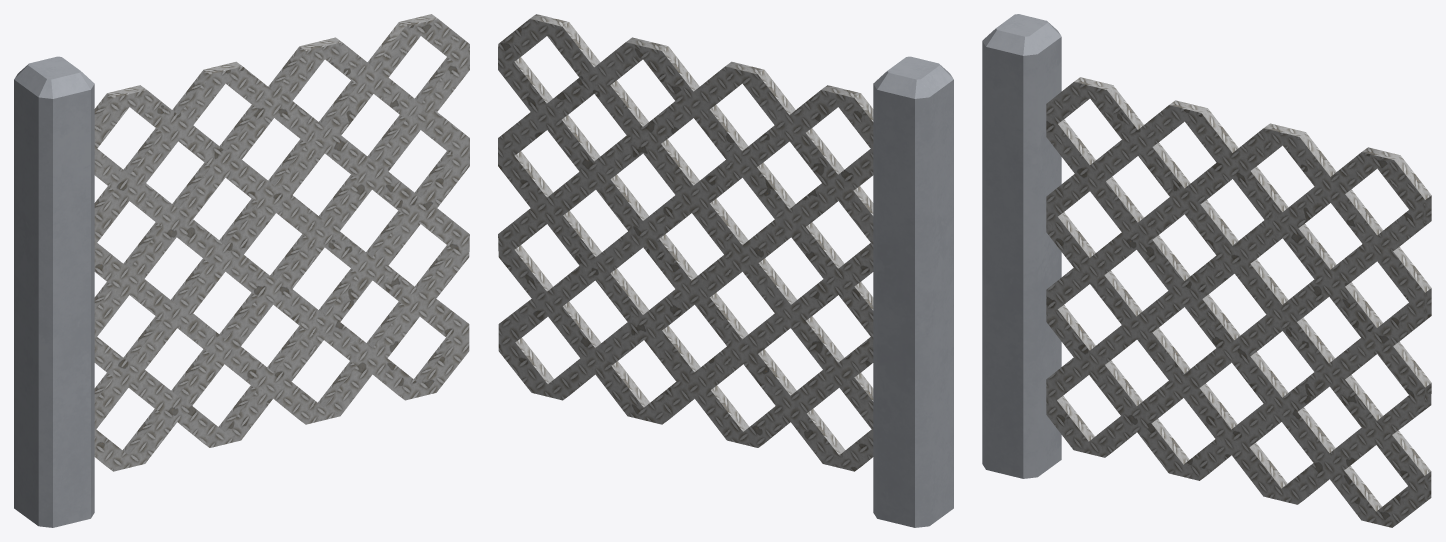
The model's file is Metal_fence.FBX.
3 renders of one model, left to right at view 1: azimuth 30°, elevation 25°; view 2: azimuth 150°, elevation 25°; view 3: azimuth 330°, elevation 25°, orthographic.
Visible parts, largest first — view 1: Fence001; view 2: Fence001; view 3: Fence001.
Part boxes in pixels (x1,y1,x2,y2): Fence001: [14, 14, 469, 527]; Fence001: [498, 14, 953, 527]; Fence001: [982, 14, 1431, 527].
Size of the model in its own units: 191 by 184 by 26.42.
1 material, 1 textured.
